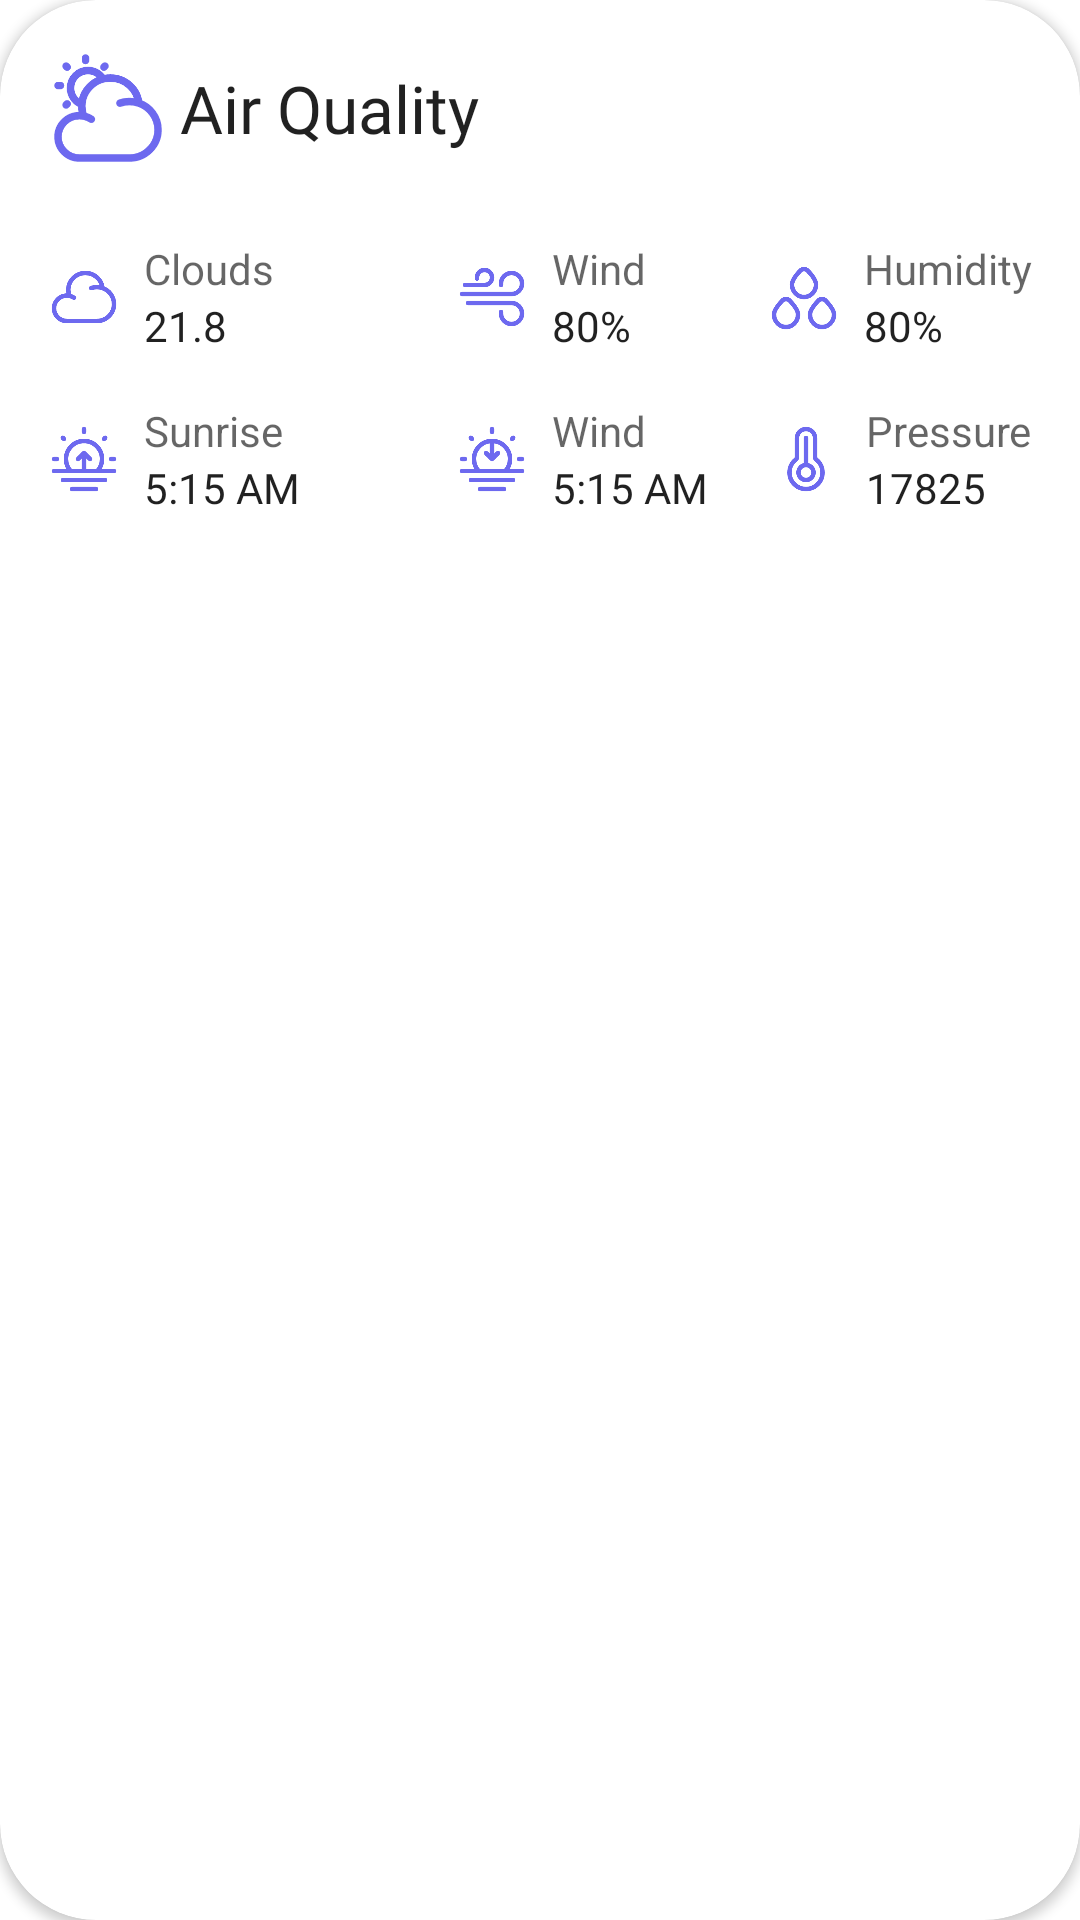

Point at icon controls on the screen. Image size 1080px×1920px, points as (x,y).
sunset: (492,459)
